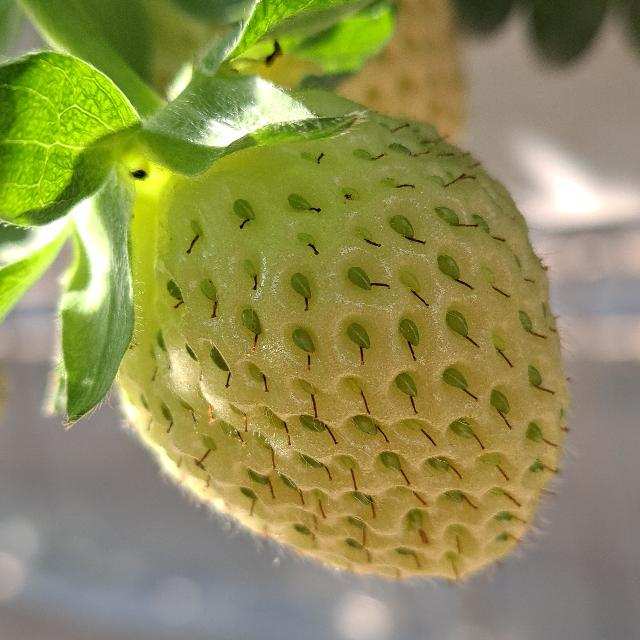Health_25: (115, 90, 570, 578)
